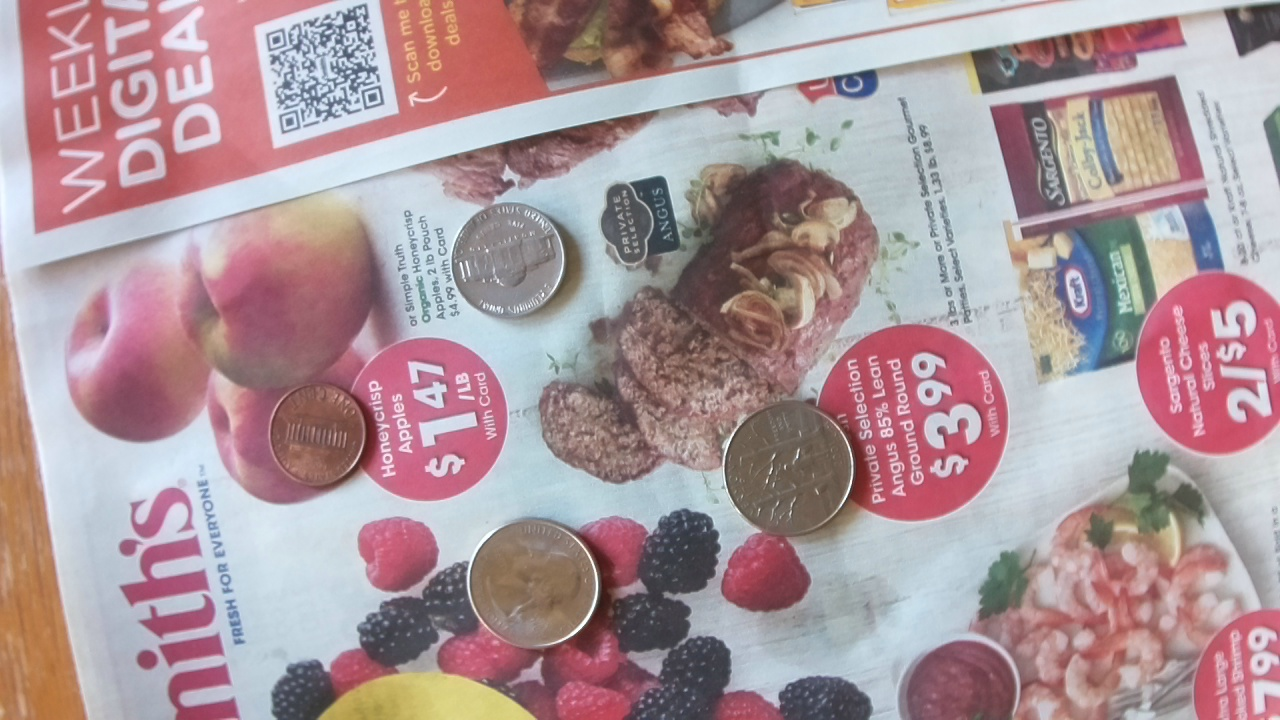nickel: (450, 202, 566, 318)
penny: (268, 381, 367, 487)
quarter: (466, 516, 601, 651), (723, 401, 855, 537)
